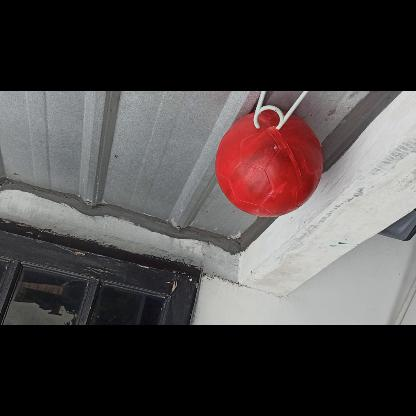red_ball: (214, 112, 322, 218)
